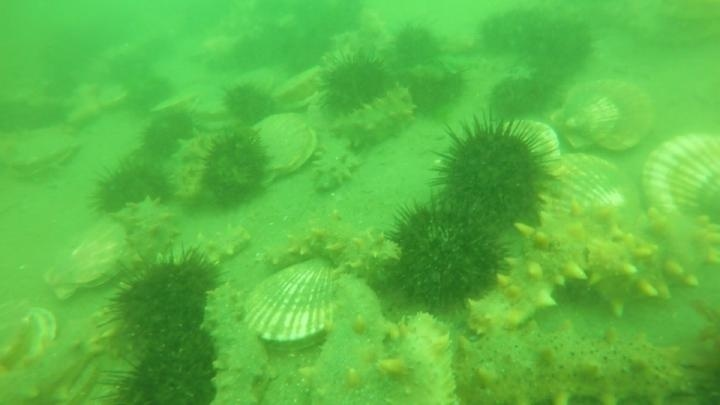echinus: (427, 114, 561, 239), (379, 197, 512, 320), (103, 247, 225, 356), (108, 321, 222, 405), (462, 1, 571, 61), (197, 128, 272, 210), (510, 1, 595, 69), (89, 157, 176, 220), (316, 50, 392, 117), (394, 59, 465, 115), (282, 1, 366, 48), (229, 22, 302, 75), (487, 72, 553, 122), (138, 107, 198, 160), (221, 80, 278, 126), (390, 22, 443, 68), (127, 74, 177, 114), (396, 59, 457, 89)
holothurian: (462, 201, 644, 336), (516, 210, 707, 330), (446, 317, 696, 405), (297, 294, 460, 404), (263, 219, 404, 282), (199, 284, 268, 405), (1, 334, 104, 405), (329, 83, 418, 152), (112, 195, 182, 269), (169, 222, 254, 269), (165, 131, 219, 203), (310, 128, 364, 196), (320, 26, 393, 69)
scallop: (238, 260, 361, 355), (550, 74, 662, 159), (534, 151, 644, 234), (640, 130, 720, 232), (42, 219, 135, 302), (249, 112, 320, 181), (2, 122, 82, 182), (1, 300, 60, 373), (152, 79, 236, 129), (500, 116, 565, 175), (270, 64, 327, 113)
starfish: (190, 29, 243, 69)
